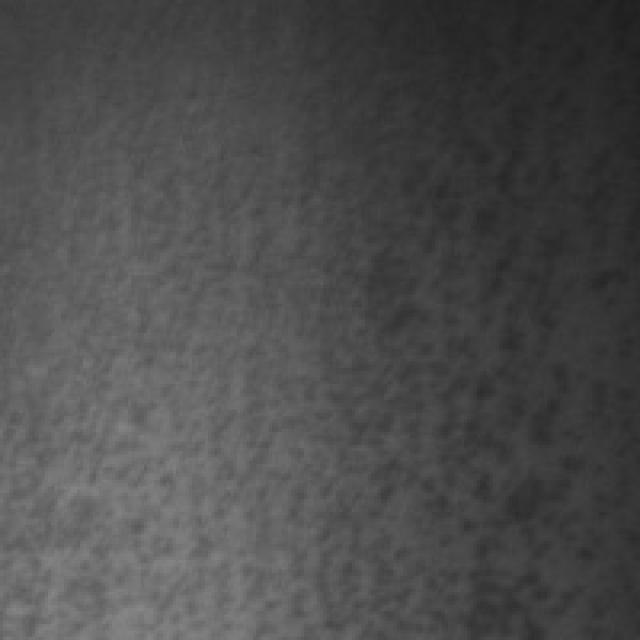pitted_surface: (0, 29, 627, 637)
